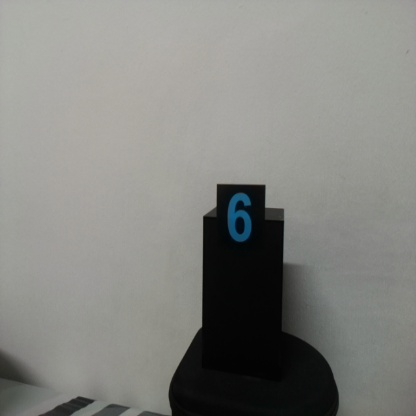id_6: (217, 185, 266, 262)
